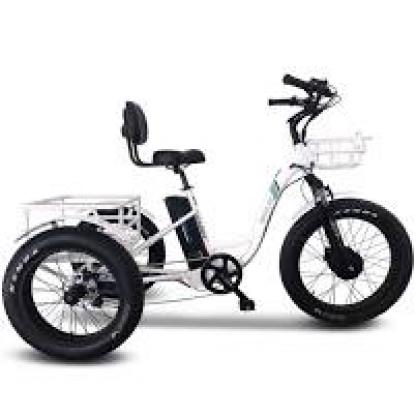Bike: (0, 68, 416, 365)
